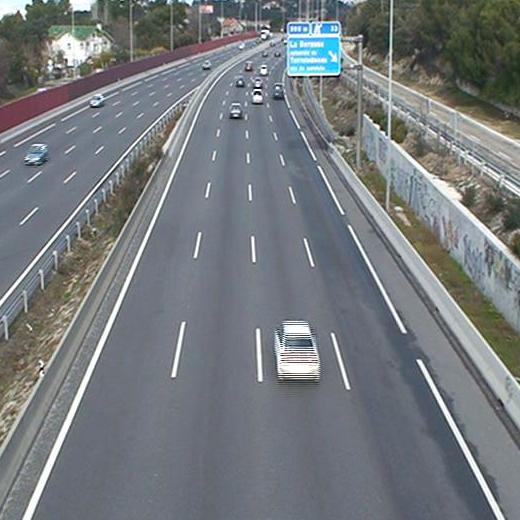car: (275, 323, 321, 380), (229, 103, 244, 118), (250, 89, 264, 103), (252, 76, 262, 90), (234, 76, 245, 87)
van: (272, 84, 284, 100)
